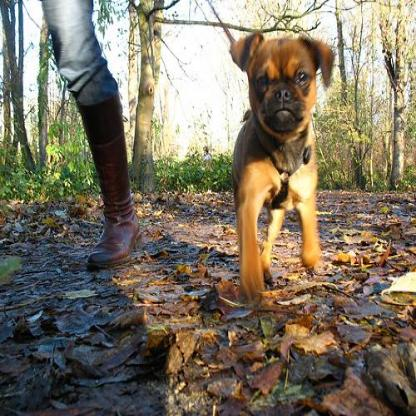Brabancon_griffon: (228, 29, 334, 299)
